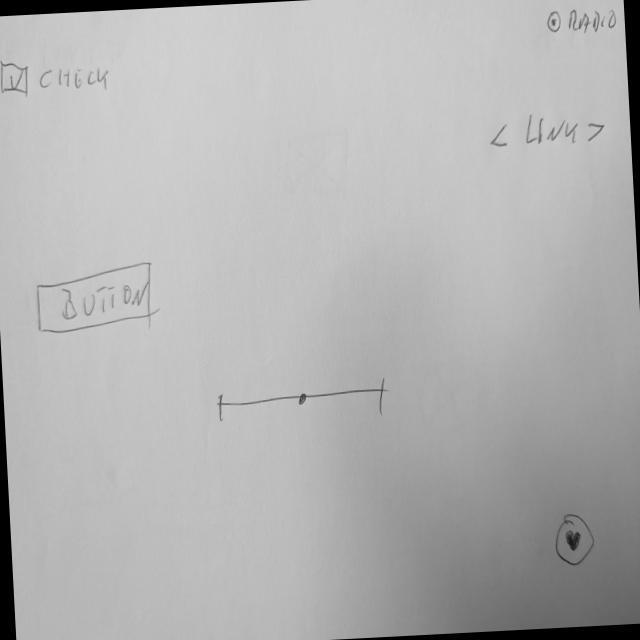button: (34, 258, 159, 338)
checkbox: (1, 52, 115, 103)
icon-button: (552, 511, 598, 571)
link: (487, 110, 610, 158)
radio: (544, 3, 568, 38)
slider: (214, 372, 391, 424)
